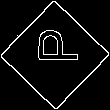P_W: (29, 36, 81, 74)
